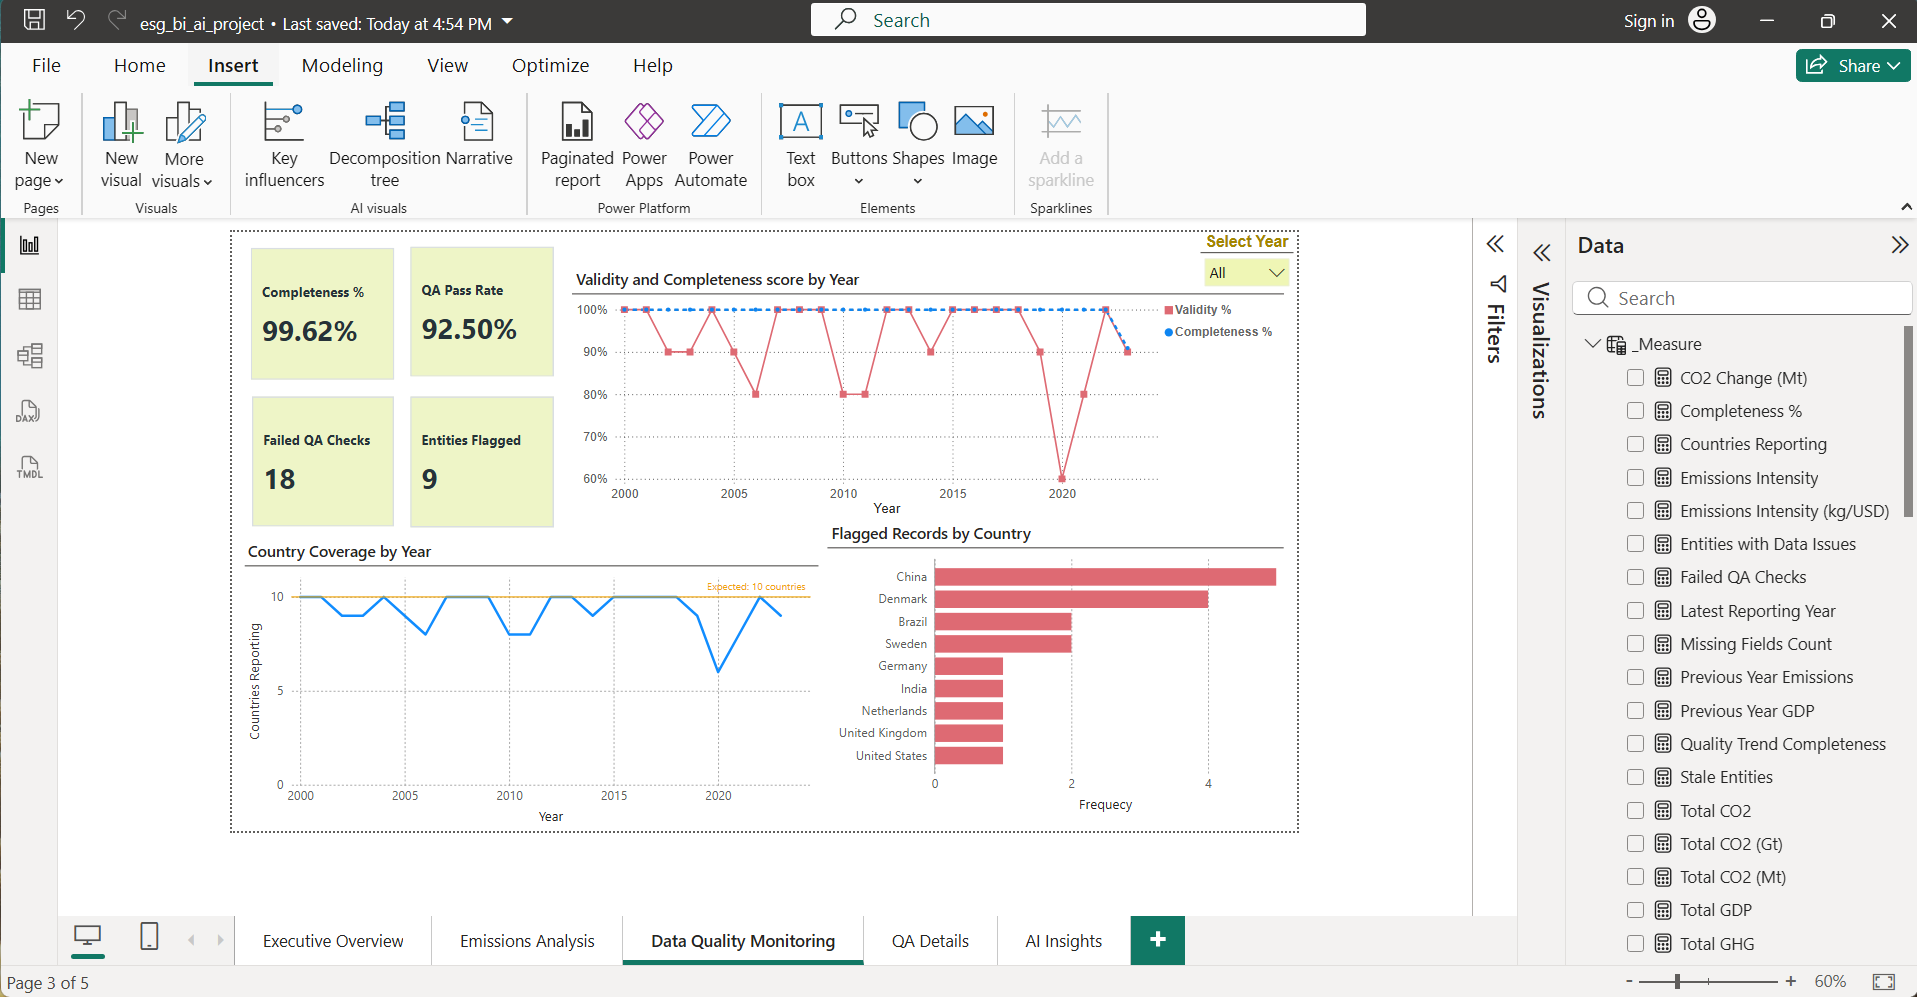

This screenshot's page, from the dashboard's own definition file:
{"tool":"powerbi","page":{"name":"Data Quality Monitoring","canvas":[1280,720],"ordinal":2},"visuals":[{"type":"cardVisual","title":"Total CO₂ (Mt CO₂)","fields":{"Data":["_Measure.Completeness %"]},"box":[4.7,1.3,207.6,193.5],"z":0,"group":"g1"},{"type":"lineChart","title":"Validity and Completeness score by Year","fields":{"Category":["DIM_DATE.year"],"Y":["_Measure.Validity %","_Measure.Completeness %"]},"box":[408.6,42.9,855.7,302.9],"z":0},{"type":"cardVisual","fields":{"Data":["_Measure.Failed QA Checks"]},"box":[6.1,179.8,205.7,191.7],"z":1000,"group":"g1"},{"type":"barChart","title":"Flagged Records by Country","fields":{"Category":["DIM_ENTITY.entity_name"],"Y":["_Measure.Failed QA Checks"]},"box":[715.7,348.6,548.6,354.3],"z":1000},{"type":"slicer","title":"Select Year","fields":{"Values":["DIM_DATE.year"]},"box":[1158.6,1.4,121.4,84.3],"z":2000},{"type":"cardVisual","fields":{"Data":["_Measure.Entities with Data Issues"]},"box":[195.6,180.6,207.6,192.2],"z":2000,"group":"g1"},{"type":"group","id":"g1","title":"Group 1","box":[4.7,0,398.6,371.4],"z":3000},{"type":"cardVisual","fields":{"Data":["_Measure.Validity %"]},"box":[196.1,0,207.1,191.7],"z":3000,"group":"g1"},{"type":"lineChart","title":"Country Coverage by Year","fields":{"Category":["DIM_DATE.year"],"Y":["_Measure.Countries Reporting"]},"box":[14.3,370,690,347.1],"z":4000}]}

Visuals, with their boxes on the page's 1280x720 design canvas (x1, y1, x2, y2). These are canvas units, not pixel positions in the 1917x997 screenshot, which may show the page scaled, cropped or inside an application window:
"Total CO₂ (Mt CO₂)" cardVisual: select_region(5, 1, 212, 195)
"Validity and Completeness score by Year" lineChart: select_region(409, 43, 1264, 346)
cardVisual - _Measure.Failed QA Checks: select_region(6, 180, 212, 372)
"Flagged Records by Country" barChart: select_region(716, 349, 1264, 703)
"Select Year" slicer: select_region(1159, 1, 1280, 86)
cardVisual - _Measure.Entities with Data Issues: select_region(196, 181, 403, 373)
"Group 1" group: select_region(5, 0, 403, 371)
cardVisual - _Measure.Validity %: select_region(196, 0, 403, 192)
"Country Coverage by Year" lineChart: select_region(14, 370, 704, 717)
